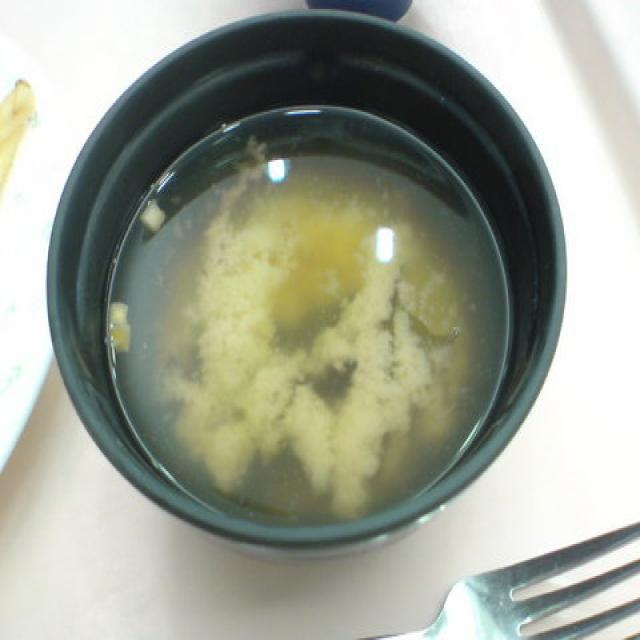汤锅炖物: (58, 22, 554, 550)
